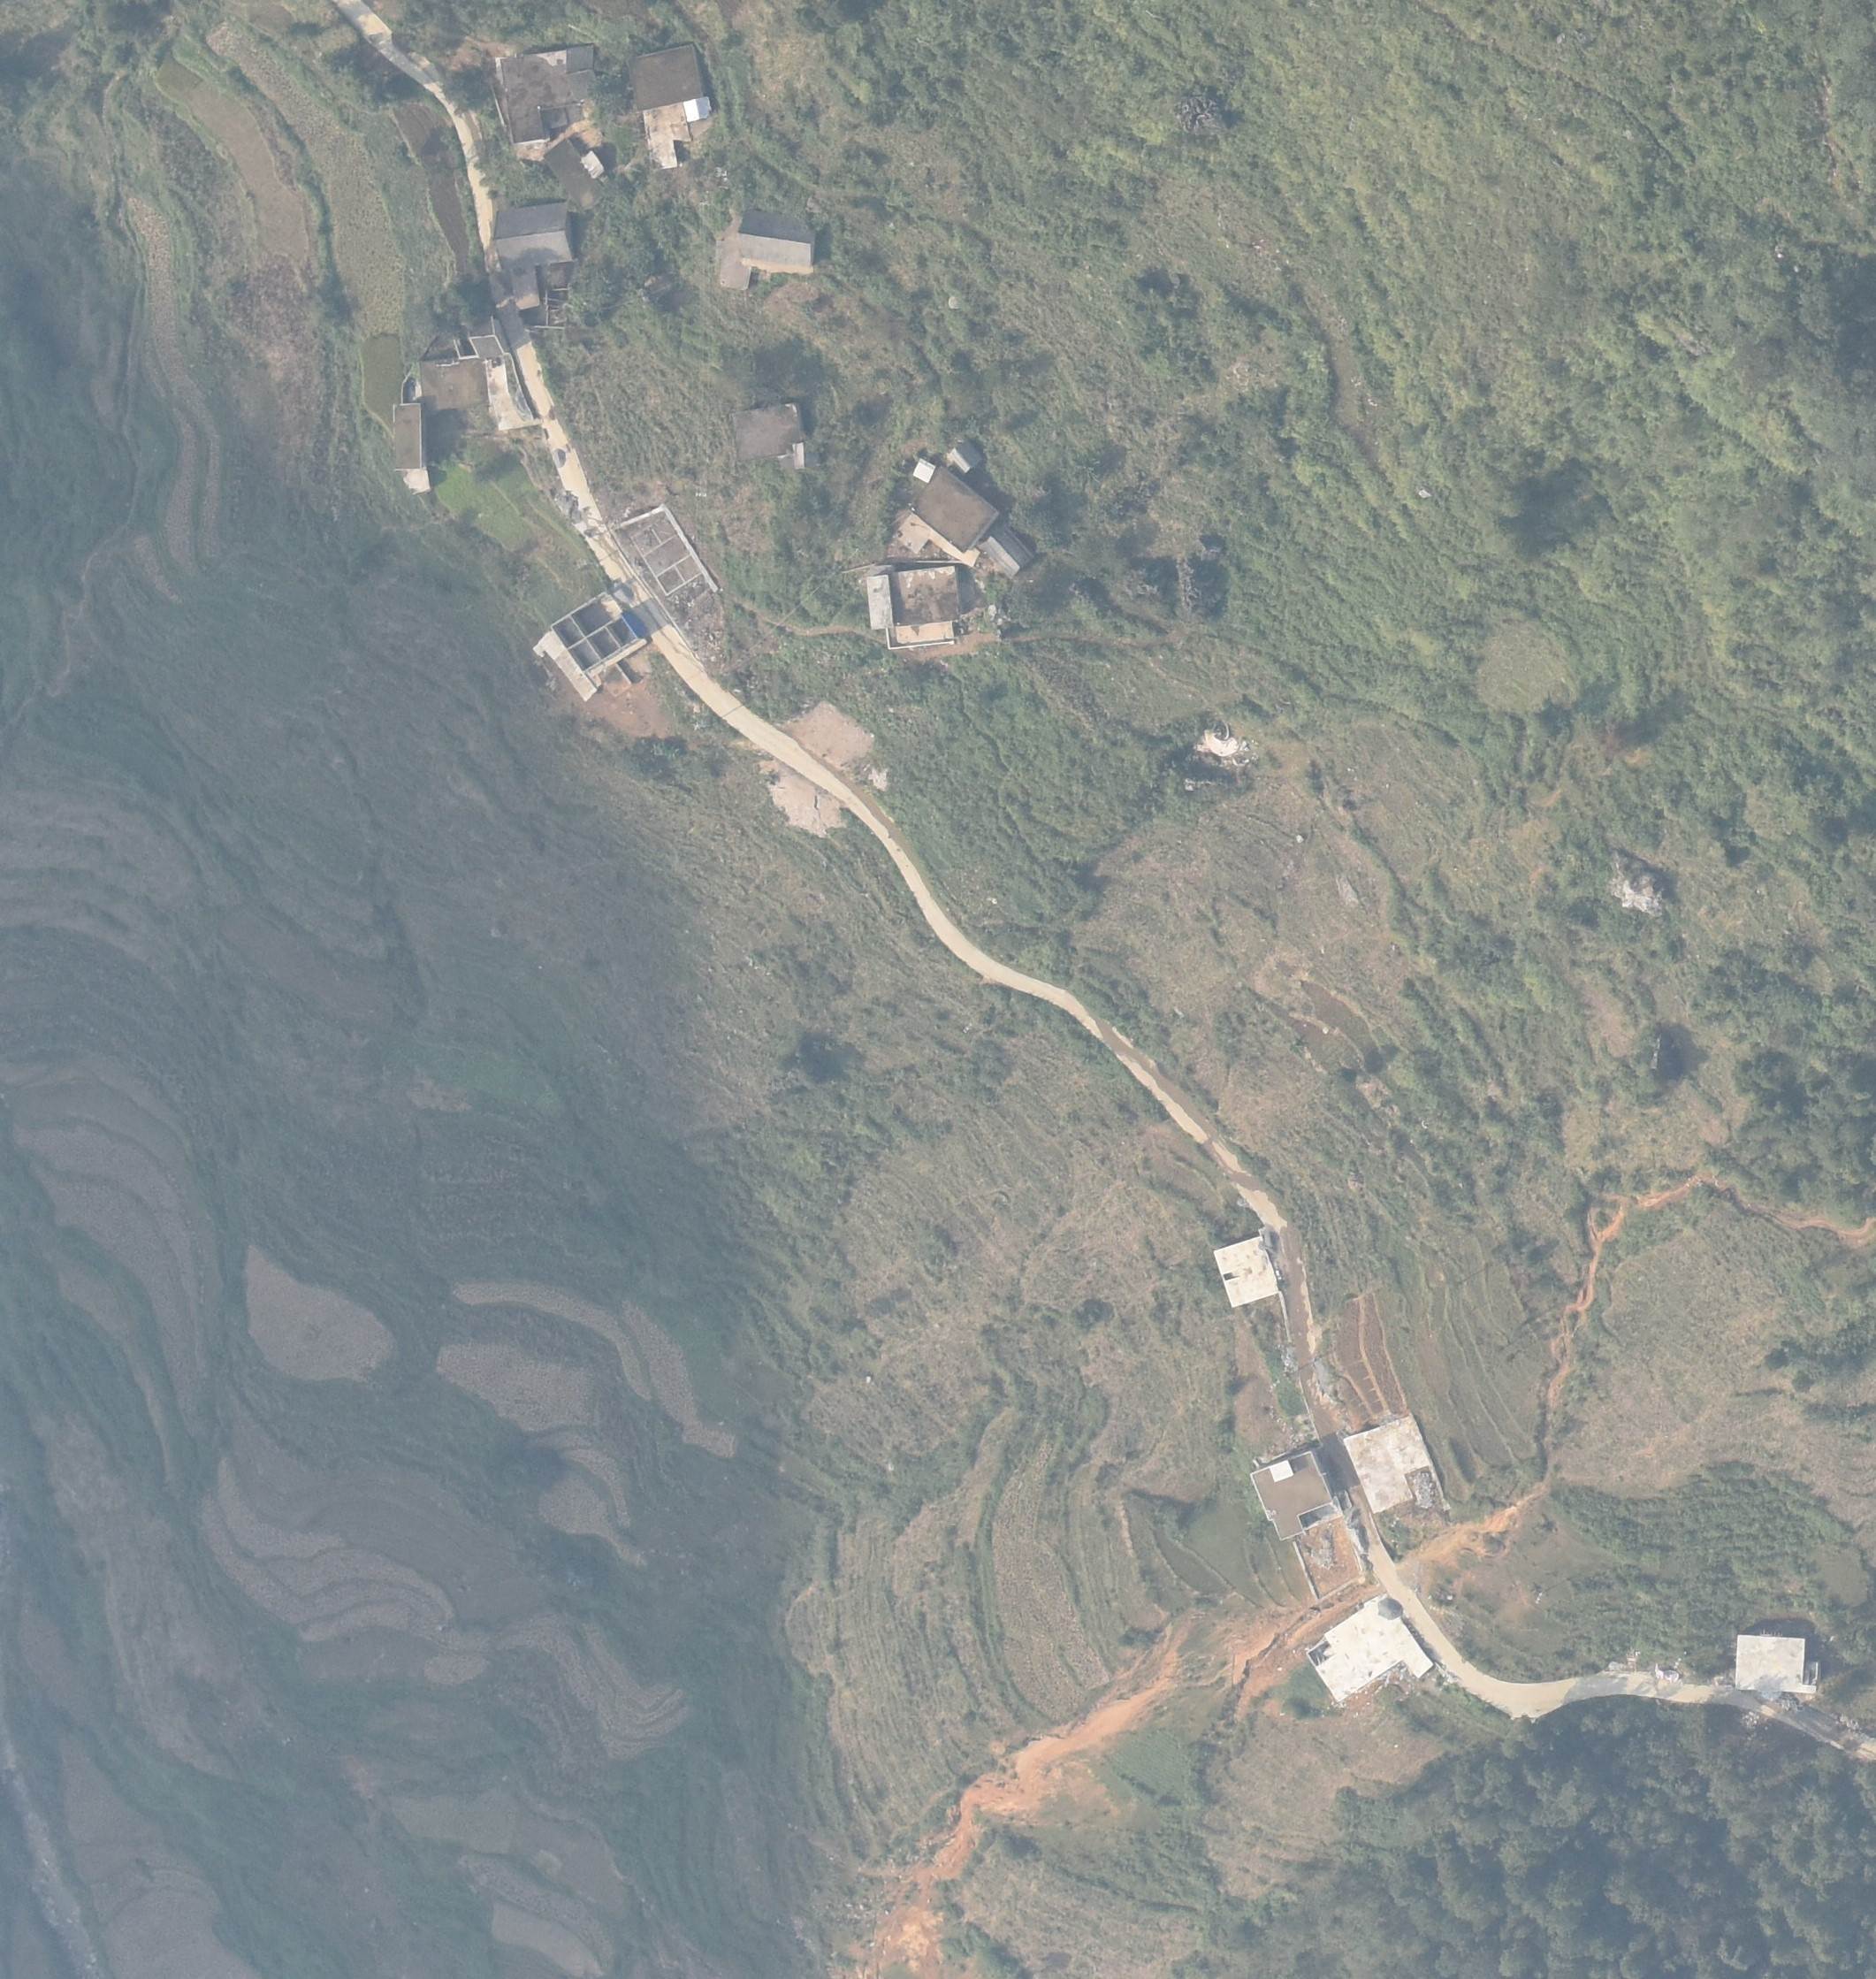building: (1300, 1593, 1439, 1712), (493, 43, 604, 152), (1344, 1414, 1441, 1516), (1240, 1451, 1339, 1548), (545, 590, 648, 684), (904, 464, 998, 556), (858, 566, 985, 630), (485, 200, 583, 278), (1725, 1621, 1816, 1703), (625, 34, 703, 114), (735, 205, 821, 276), (1211, 1234, 1285, 1318), (538, 138, 611, 218), (728, 401, 812, 462), (981, 522, 1048, 588), (639, 101, 694, 177), (385, 398, 429, 474), (459, 304, 510, 362), (941, 433, 983, 481), (789, 440, 825, 476)
prefabricated-house: (675, 94, 721, 126), (911, 458, 936, 484)
